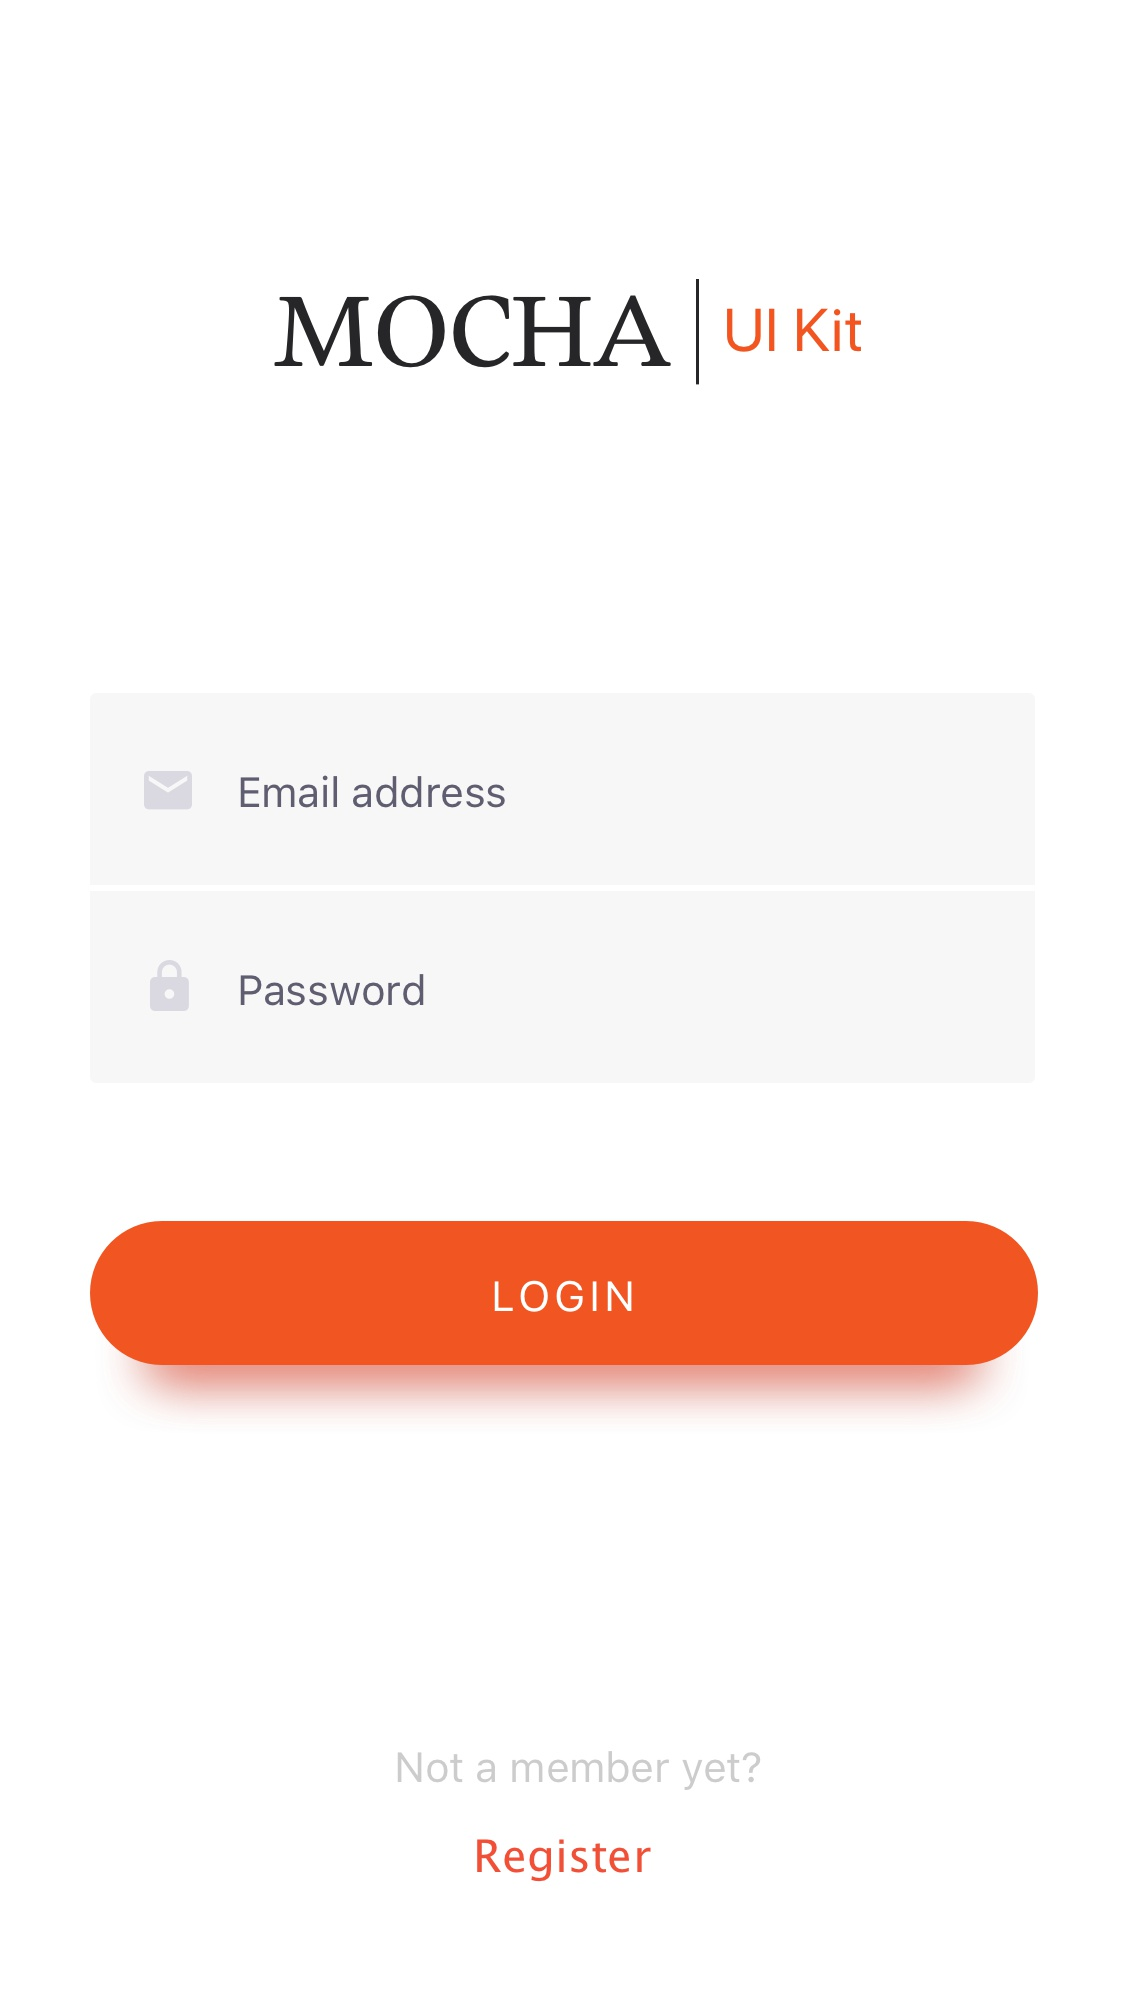EditText: (91, 694, 1034, 886), (91, 892, 1034, 1084)
Icon: (150, 959, 191, 1011), (144, 771, 194, 811)
Text: (273, 295, 672, 368), (397, 1750, 762, 1792), (240, 775, 505, 809), (477, 1837, 652, 1883), (240, 973, 424, 1007), (727, 308, 863, 353)
TextButton: (91, 1220, 1038, 1367)
